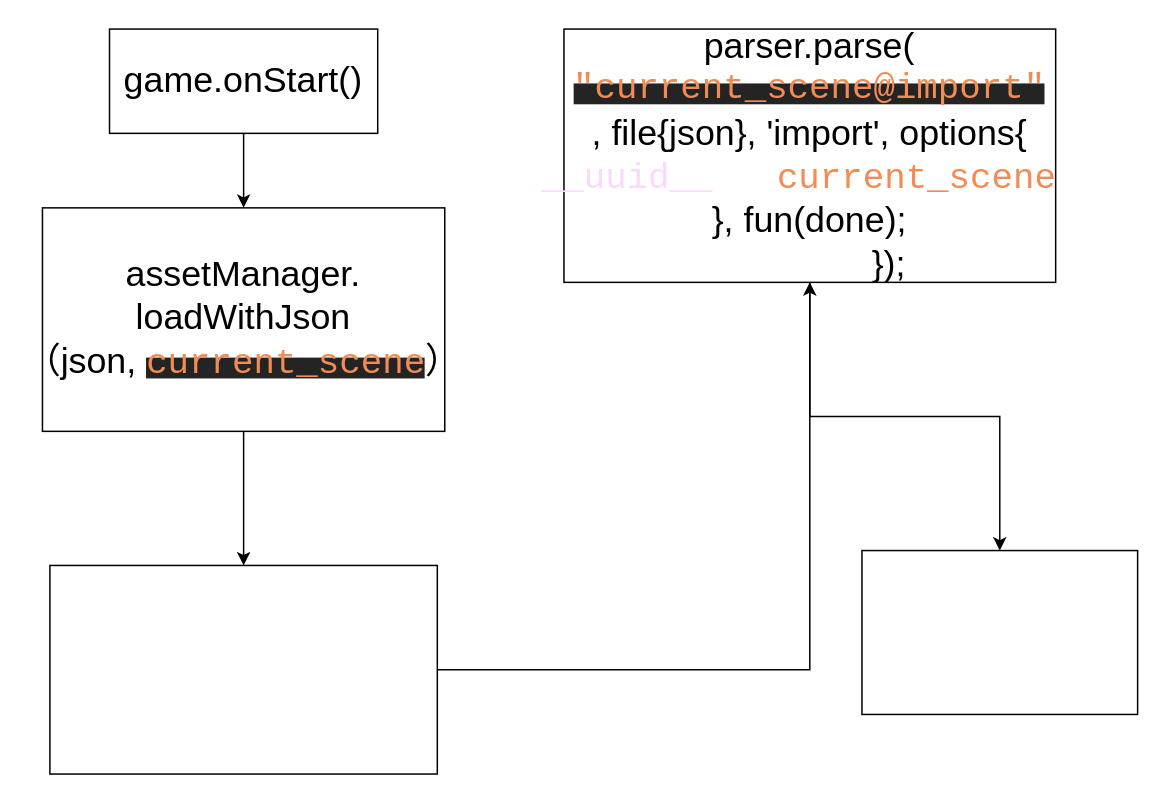
Image size: 1164x800. Some labels were removed from this diagram. The shapes that lost their labels are listed below. From the top down, each one's centre as x and y in pixels, then its label:
(999,631): deserialize() 生成场景对应的实例 asset类型
(242,669): this._parsePipeline!. async(task)
